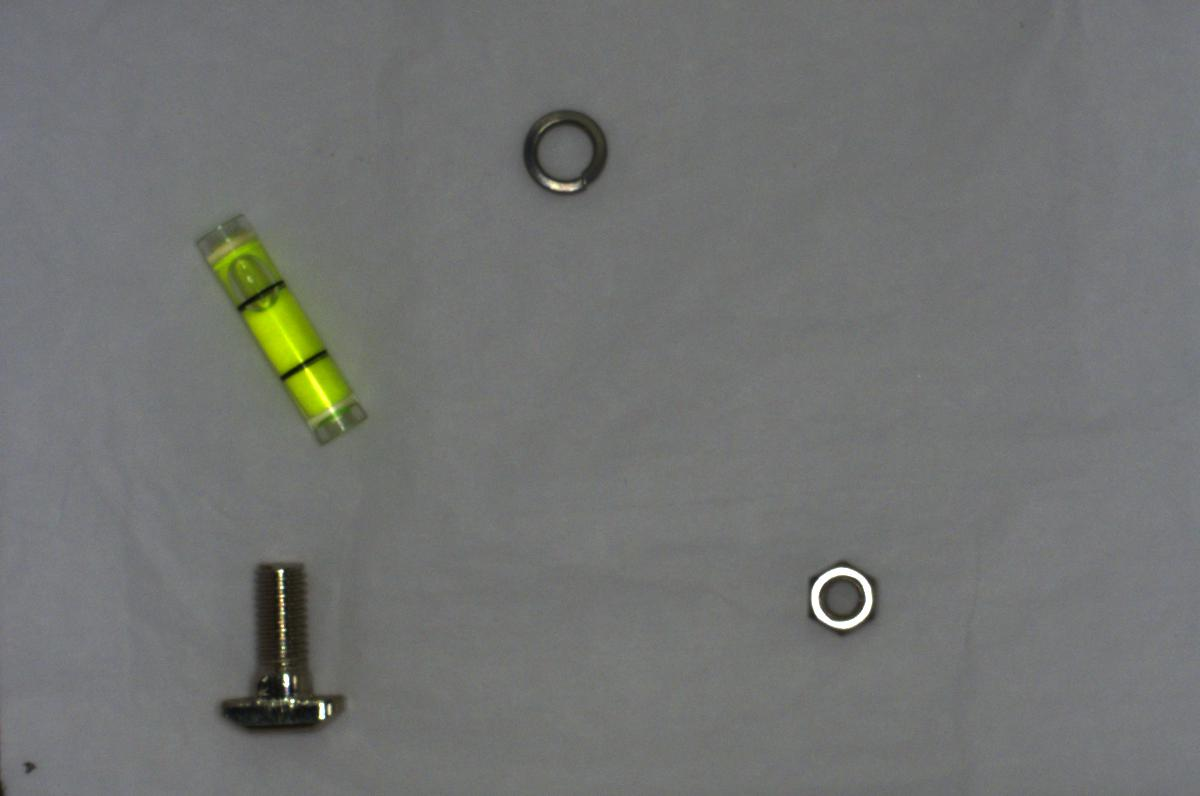Hexagon nut: (788, 554, 882, 643)
Horizontal bubble: (182, 200, 371, 452)
Spring washer: (519, 95, 618, 196)
T-shaped screw: (206, 543, 357, 749)
